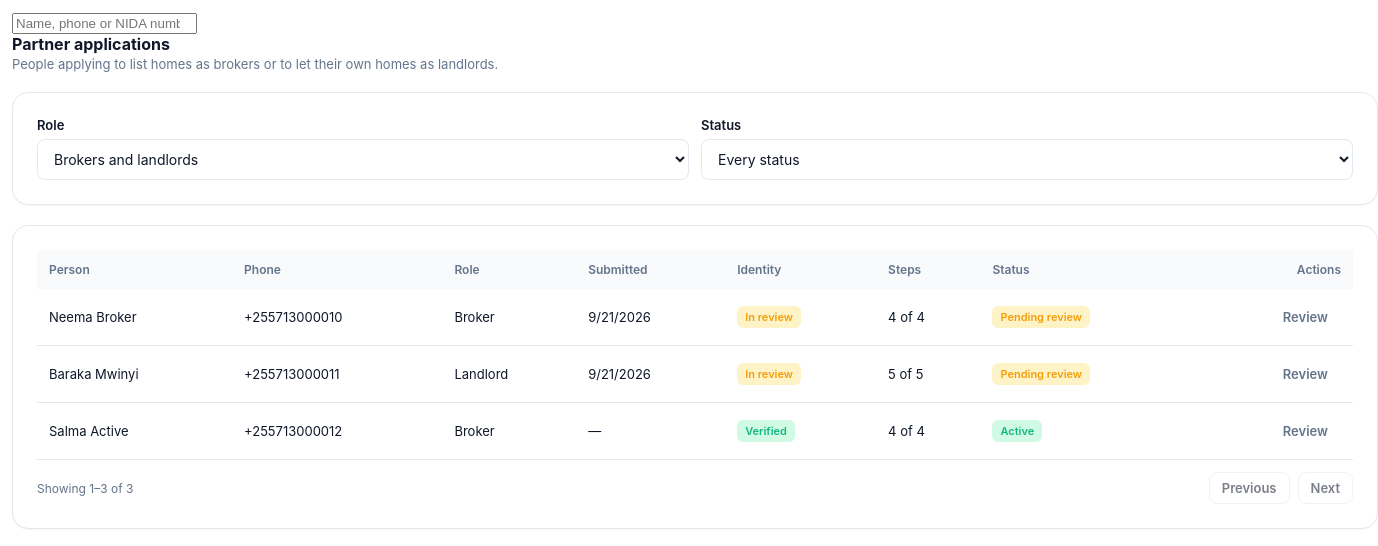
partner applications queue › filters by role, status and search, through the API
This screenshot has width=1378, height=546.
Select "Landlord" in the dropdown labelled "Role": coordinates (363, 160) [37,139,689,180]
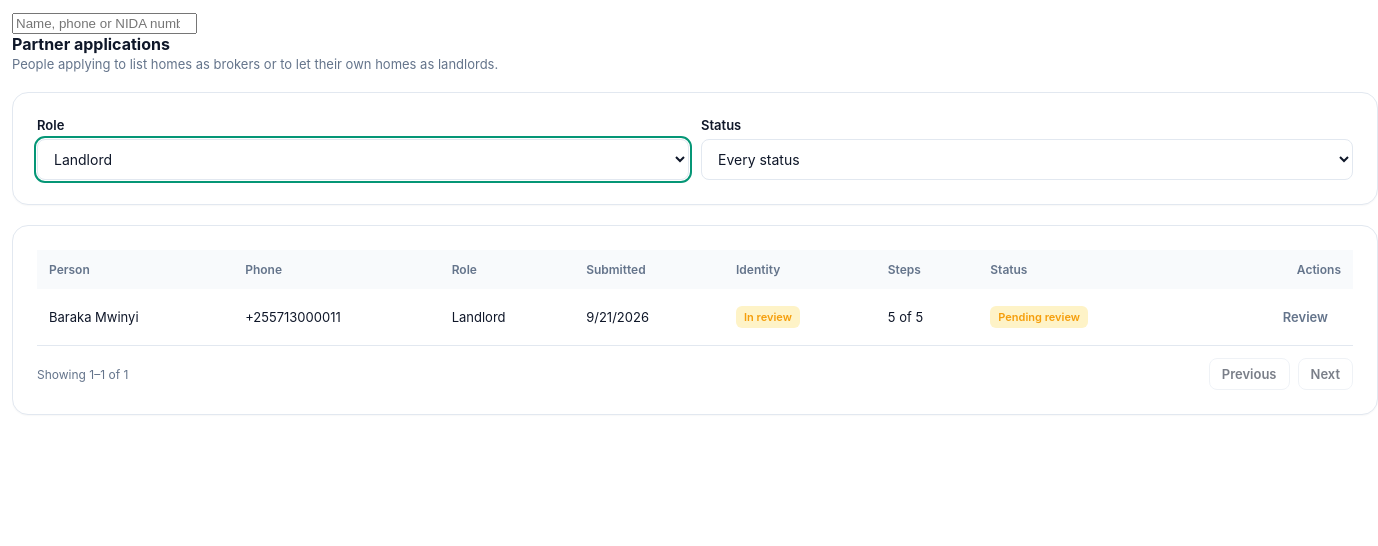
Expected: the text "Baraka Mwinyi" is shown, [37,289,233,346]
Now the text "Neema Broker" is gone
Select "Brokers and landlords" in the dropdown labelled "Role": coordinates (363, 160) [37,139,689,180]
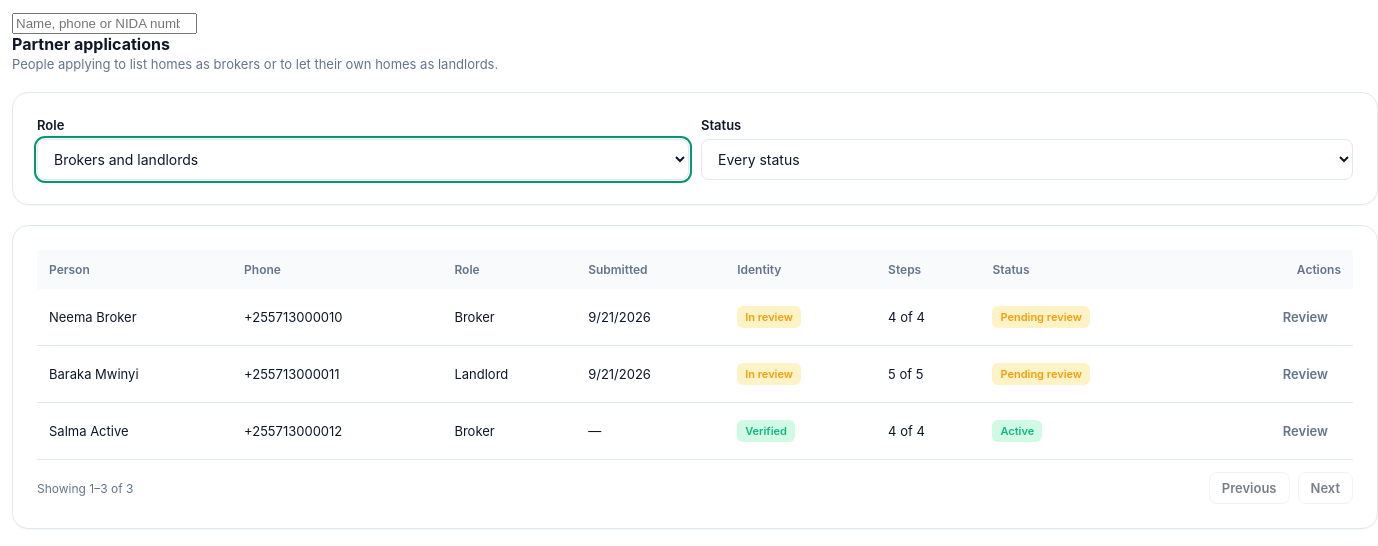
Select "Active" in the dropdown labelled "Status": coordinates (1027, 160) [701,139,1353,180]
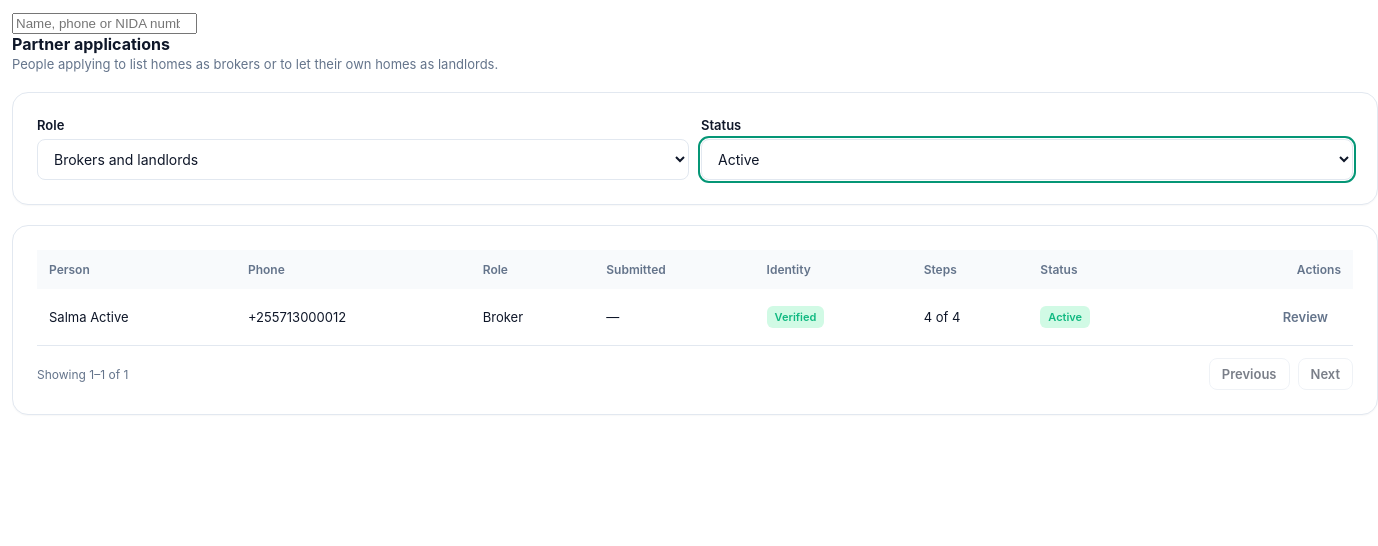
Now the text "Salma Active" is shown, box [37,289,236,346]
Now the text "Neema Broker" is gone
Select "Every status" in the dropdown labelled "Status": coordinates (1027, 160) [701,139,1353,180]
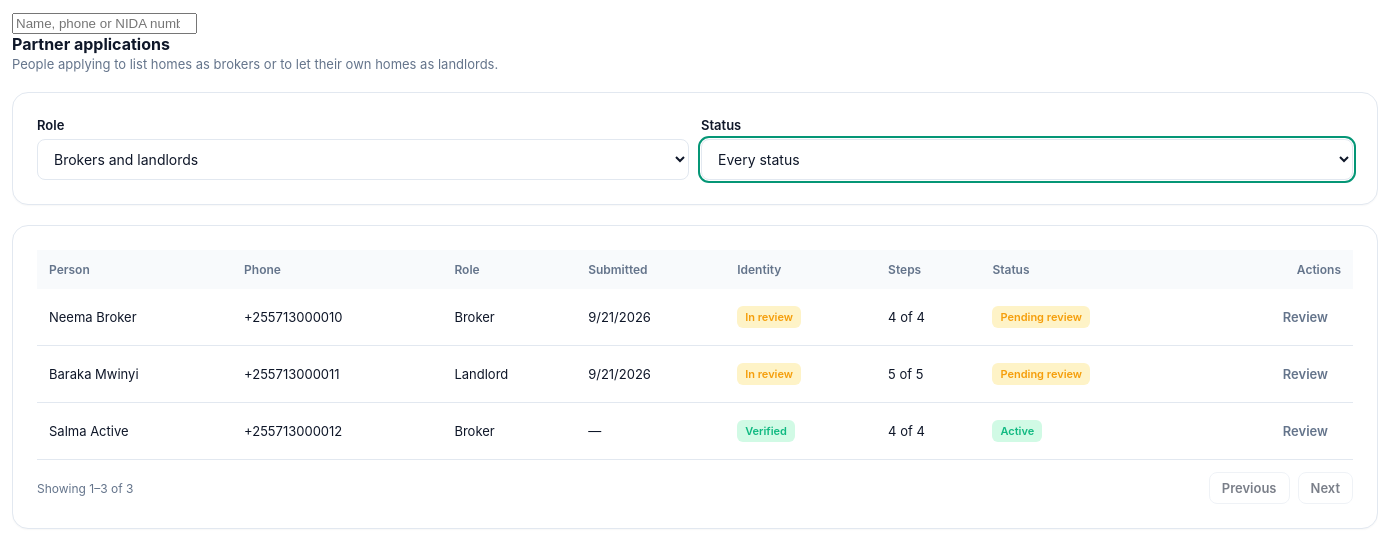
In the search field named "search this page": coordinates (104, 24) [12,13,197,34], type "baraka"
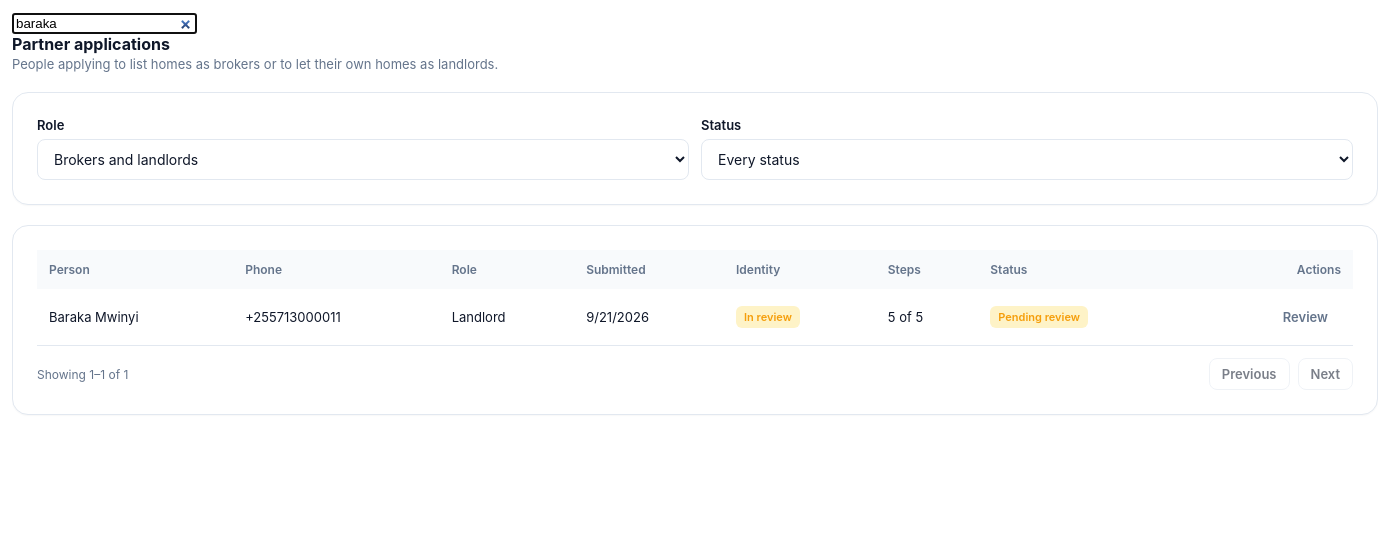
Now the text "Neema Broker" is gone
